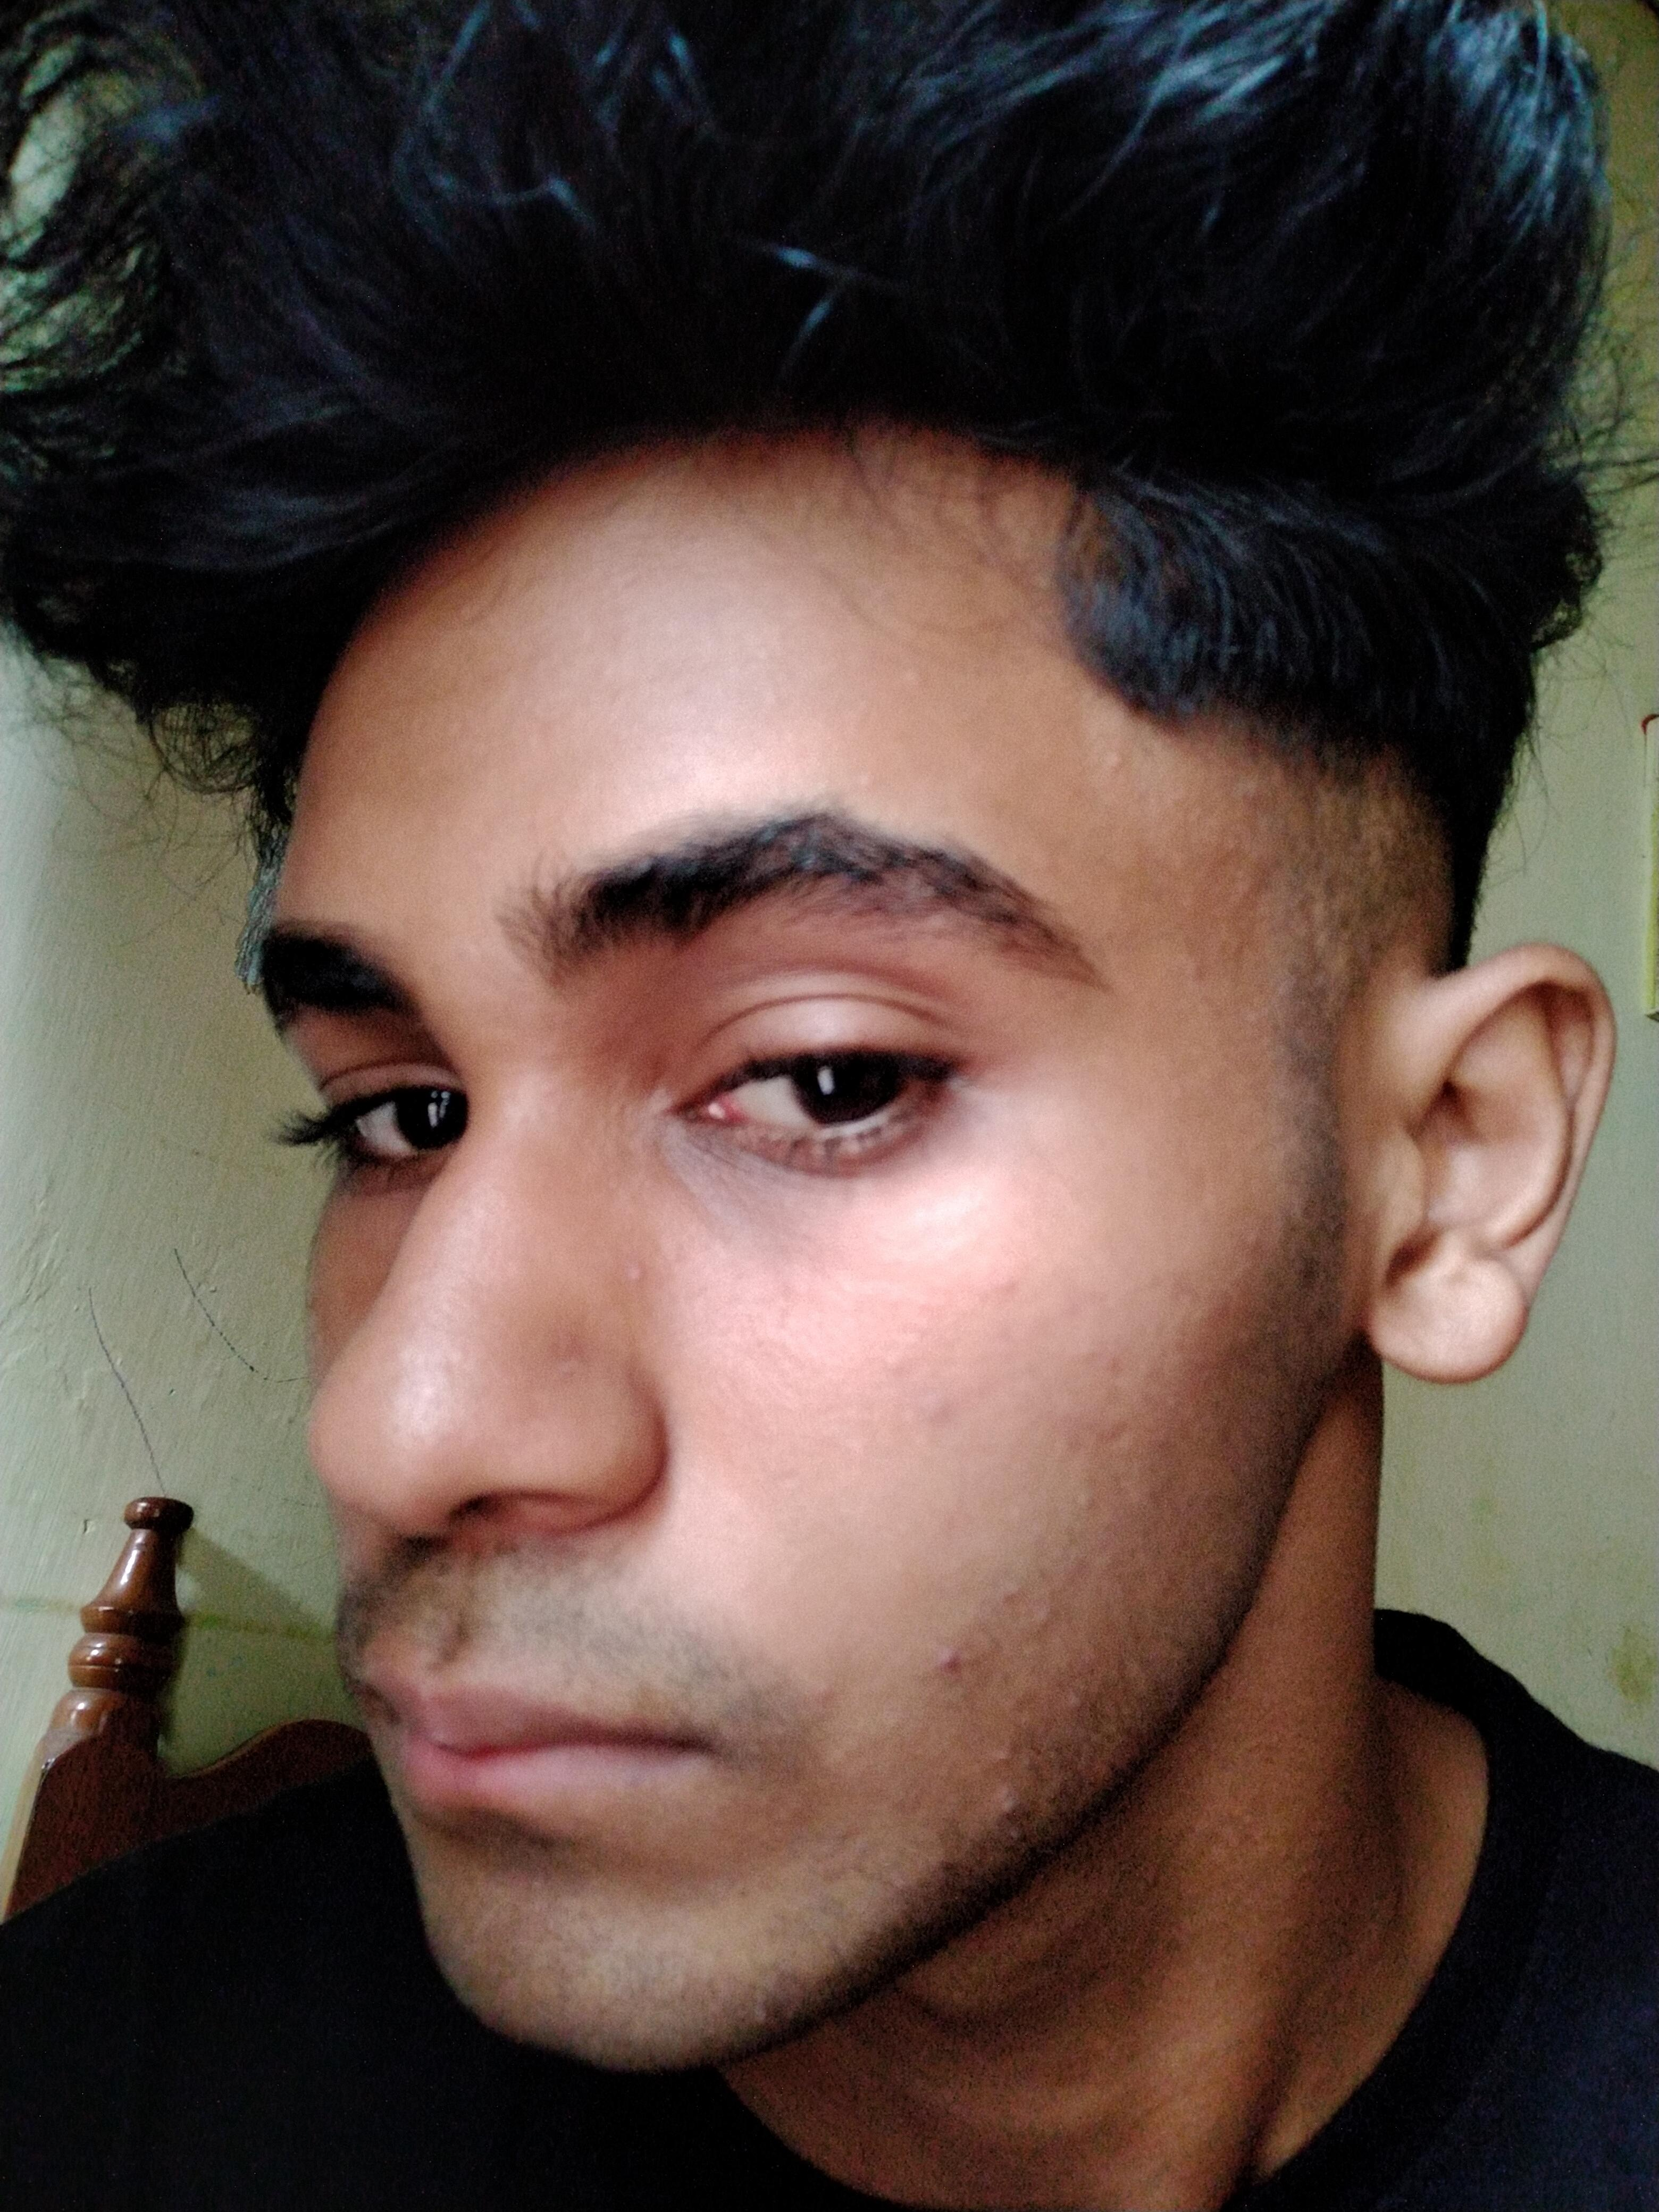Acne: (540, 1331, 594, 1385), (911, 1388, 967, 1439), (613, 1237, 657, 1299), (988, 1775, 1035, 1831), (1072, 1482, 1122, 1533), (931, 1637, 979, 1679), (981, 1271, 1025, 1310), (810, 1686, 852, 1721), (1060, 1686, 1094, 1723), (995, 1587, 1028, 1623), (871, 1327, 901, 1362), (985, 1752, 1018, 1777)
